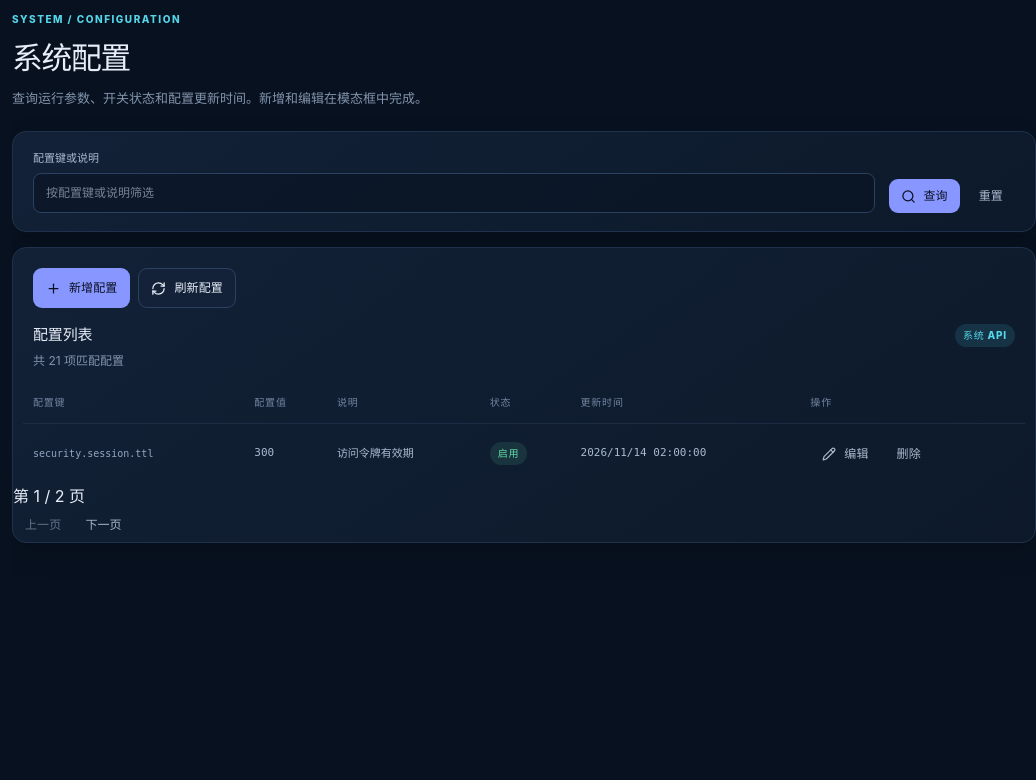
ConfigsPage › 按服务端 total 翻页并将筛选条件写入 URL
The width and height of the screenshot is (1036, 780).
Expected: the text "security.session.ttl" is shown, [33, 448, 153, 459]
Expected: the text "第 1 / 2 页" is shown, [13, 486, 85, 506]
Click the button "下一页": point(104, 525) [73, 508, 134, 542]
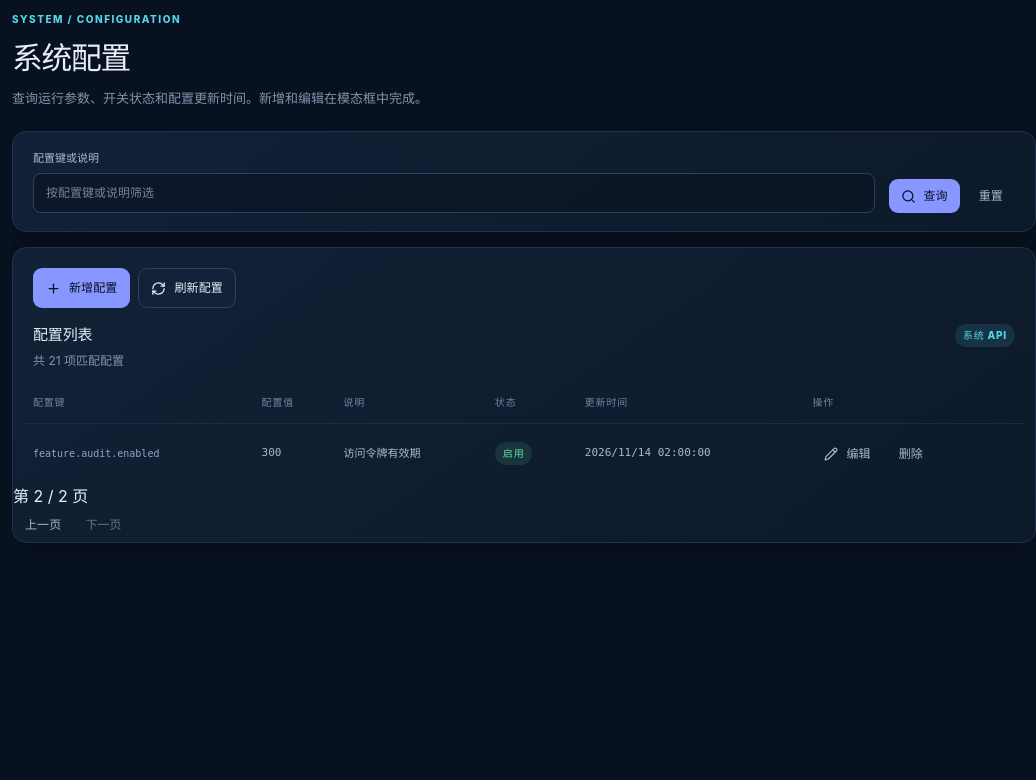
Now the text "feature.audit.enabled" is shown, box [33, 448, 159, 459]
